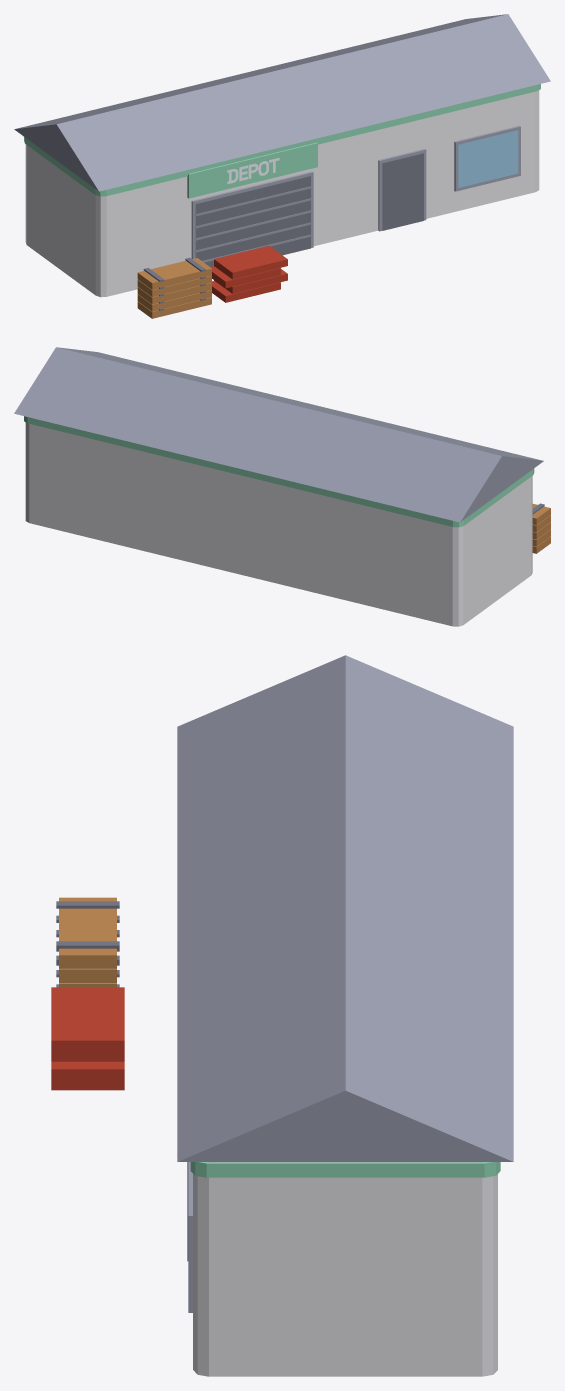
Rendered from depot-2x1-t2-tone-a.glb.
The picture shows the model from 3 angles, top to bottom: view 1: azimuth 30°, elevation 25°; view 2: azimuth 150°, elevation 25°; view 3: azimuth 270°, elevation 25°; orthographic projection. The views are drawn at different scales.
Parts seen in each view (by area): view 1: depot-2x1-t2-tone-a; view 2: depot-2x1-t2-tone-a; view 3: depot-2x1-t2-tone-a.
Boxes of the visible parts, x1,y1,x2,y2 form: depot-2x1-t2-tone-a: [14, 14, 550, 318]; depot-2x1-t2-tone-a: [14, 347, 550, 626]; depot-2x1-t2-tone-a: [51, 655, 513, 1376].
Bounding box in the file's own units: 1.96 × 0.61 × 0.88.
Materials: 1 (1 with a texture image).
